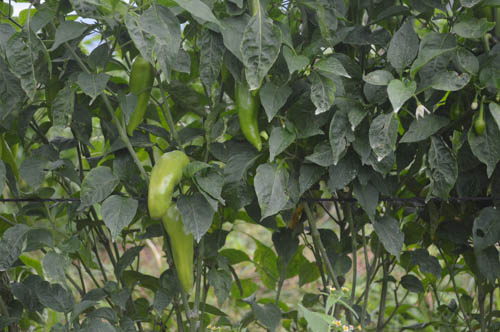ChiliPepper: (164, 201, 198, 293), (146, 149, 189, 216), (125, 58, 153, 139), (236, 74, 265, 149)
